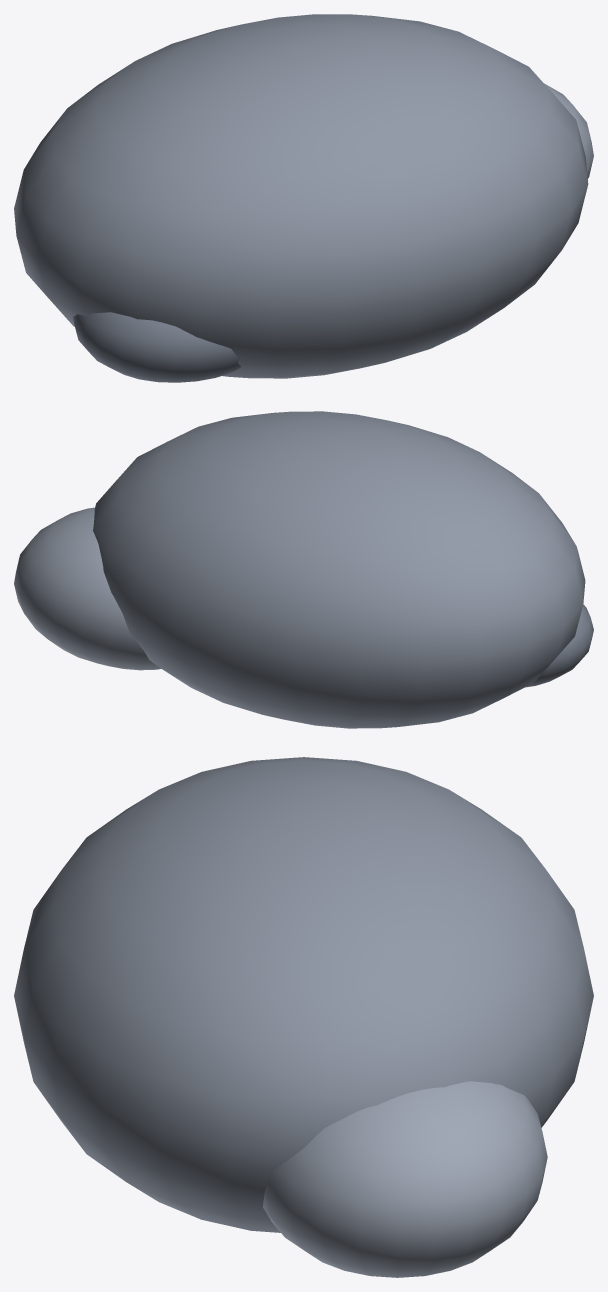
The model's file is e_rock.glb.
3 views of the same model, one above another, from view 1: azimuth 30°, elevation 25°; view 2: azimuth 150°, elevation 25°; view 3: azimuth 270°, elevation 25° (orthographic). The views are drawn at different scales.
Parts seen in each view (by area): view 1: er_r0.004, er_r2.004, er_r1.004; view 2: er_r0.004, er_r1.004, er_r2.004; view 3: er_r0.004, er_r1.004.
Boxes of the visible parts, <box> form: er_r0.004: <box>14,14,588,378</box>; er_r2.004: <box>73,312,241,382</box>; er_r1.004: <box>544,83,593,178</box>; er_r0.004: <box>93,411,585,728</box>; er_r1.004: <box>14,507,161,670</box>; er_r2.004: <box>525,604,593,687</box>; er_r0.004: <box>14,757,593,1232</box>; er_r1.004: <box>263,1081,547,1277</box>.
Size of the model in its own units: 1.57 by 0.7688 by 1.12.
